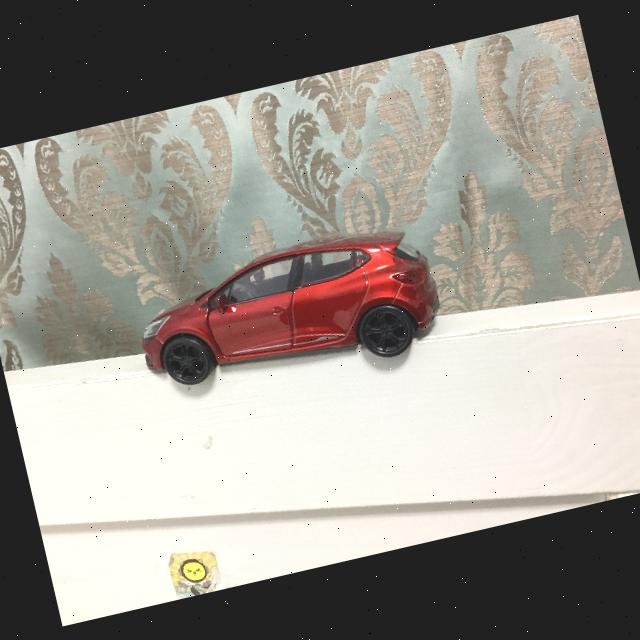Dogru_Jant: (362, 306, 410, 353), (164, 338, 208, 383)
